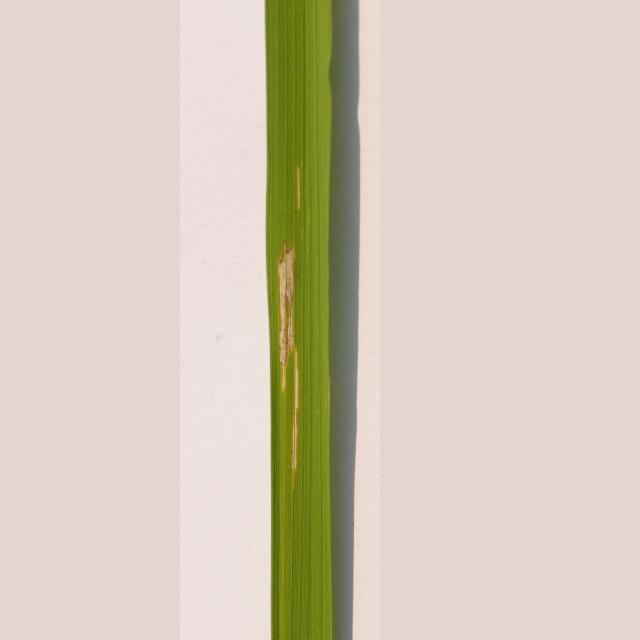leaf blight: (264, 218, 315, 481)
